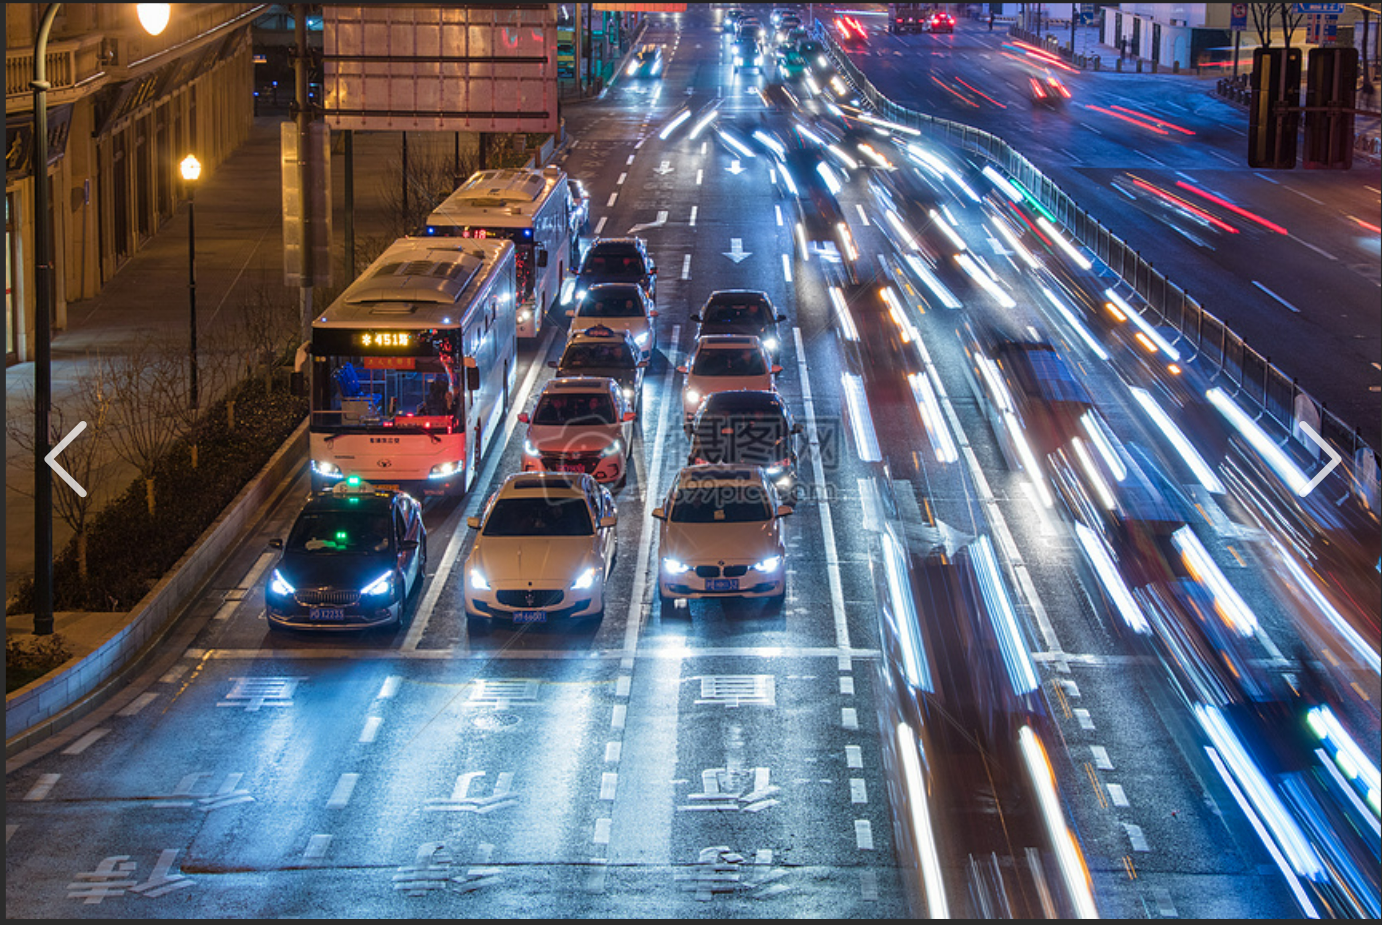car: (291, 219, 500, 492), (477, 476, 612, 652), (647, 462, 796, 623), (422, 150, 554, 326), (269, 484, 421, 634), (522, 366, 633, 487), (677, 398, 809, 488), (672, 328, 794, 413), (566, 282, 649, 371), (676, 281, 788, 342), (577, 219, 658, 292), (1024, 66, 1075, 114), (629, 45, 666, 86)
